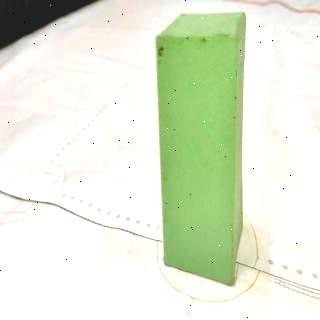greenbox: (157, 12, 248, 282)
